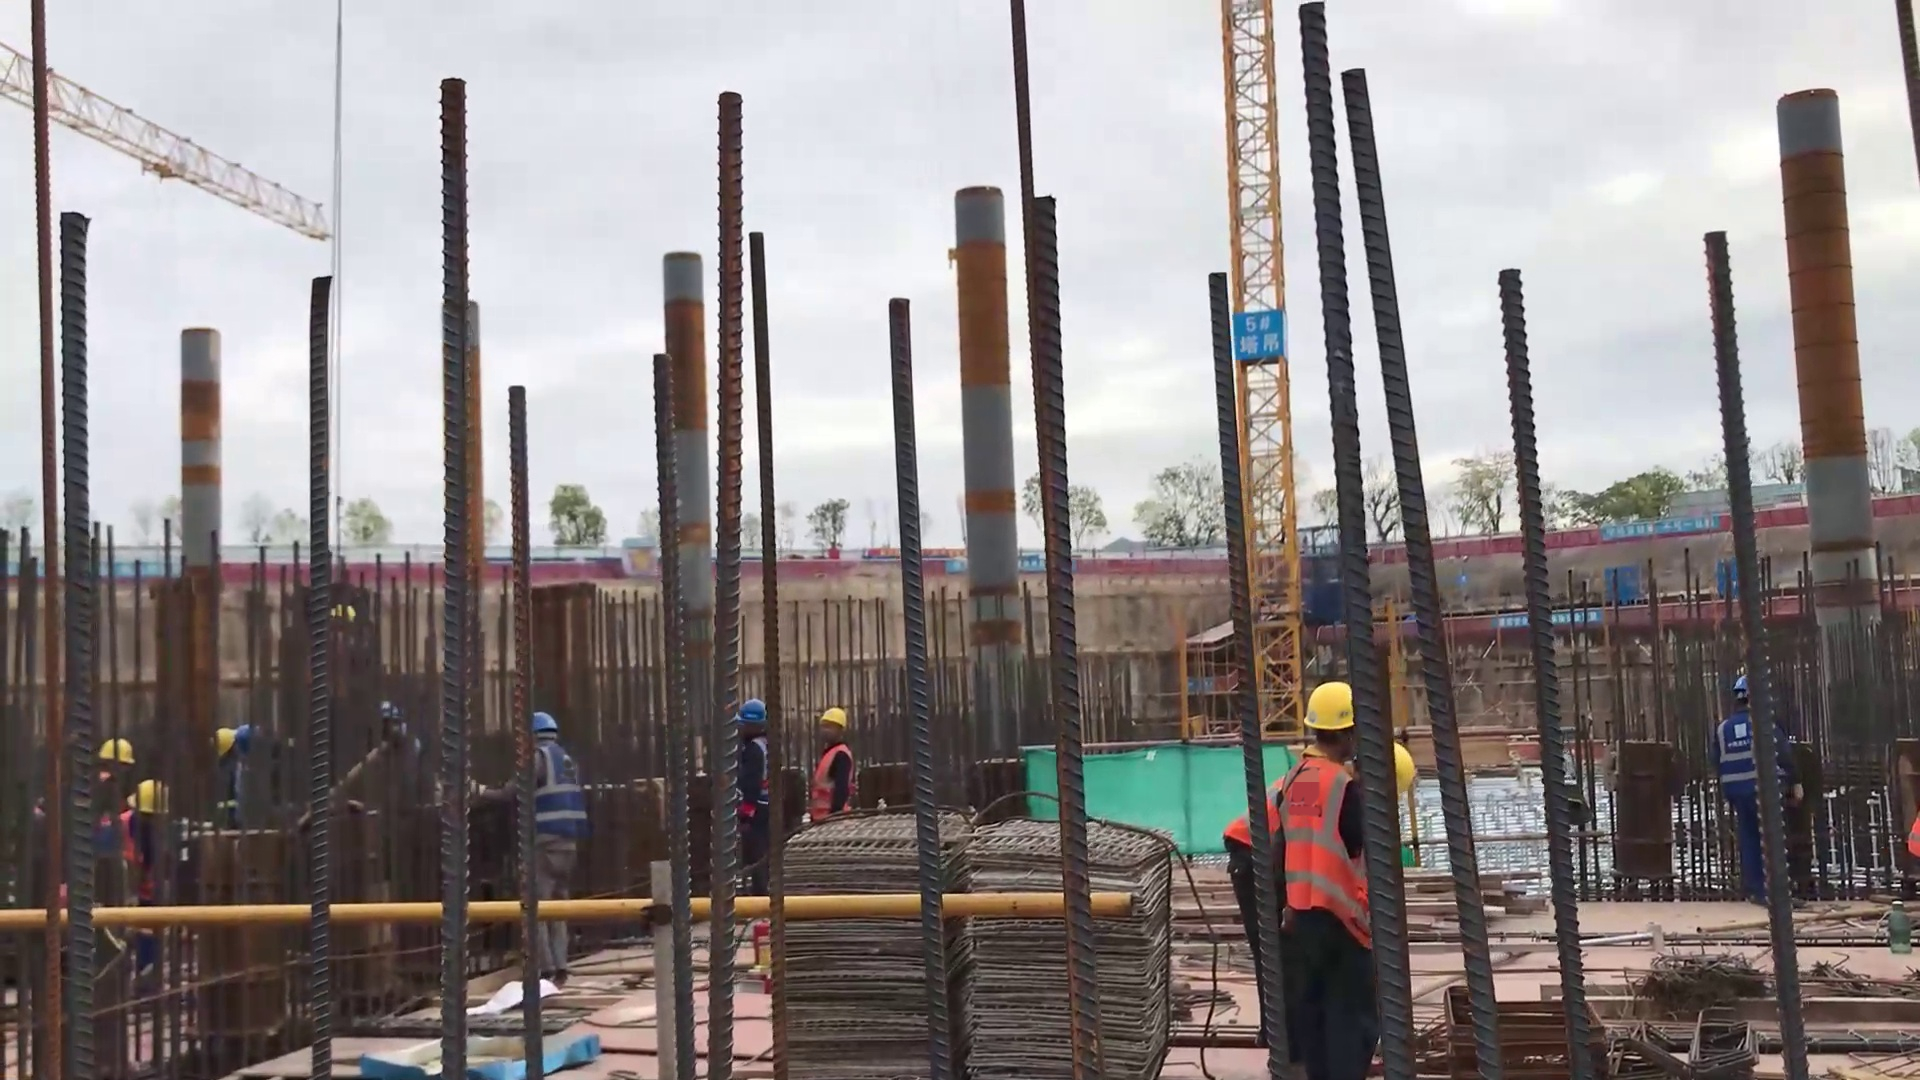fence: (1077, 526, 1226, 612), (536, 539, 655, 604), (784, 533, 882, 606), (1436, 516, 1520, 585), (1875, 474, 1916, 546), (1756, 487, 1803, 549)
helmet: (1292, 677, 1362, 751), (116, 770, 173, 822), (1389, 738, 1427, 807), (735, 693, 771, 733), (101, 729, 139, 766), (816, 699, 850, 739), (524, 704, 558, 743), (216, 719, 239, 761), (1731, 672, 1752, 704)
person: (1262, 668, 1396, 1080), (531, 701, 606, 996), (1715, 657, 1763, 887), (802, 699, 865, 829), (738, 685, 781, 880)
slogan: (1584, 510, 1724, 539), (1233, 308, 1293, 360)
vest: (1277, 758, 1378, 967), (531, 748, 598, 849), (805, 742, 863, 819), (1720, 716, 1756, 794)
